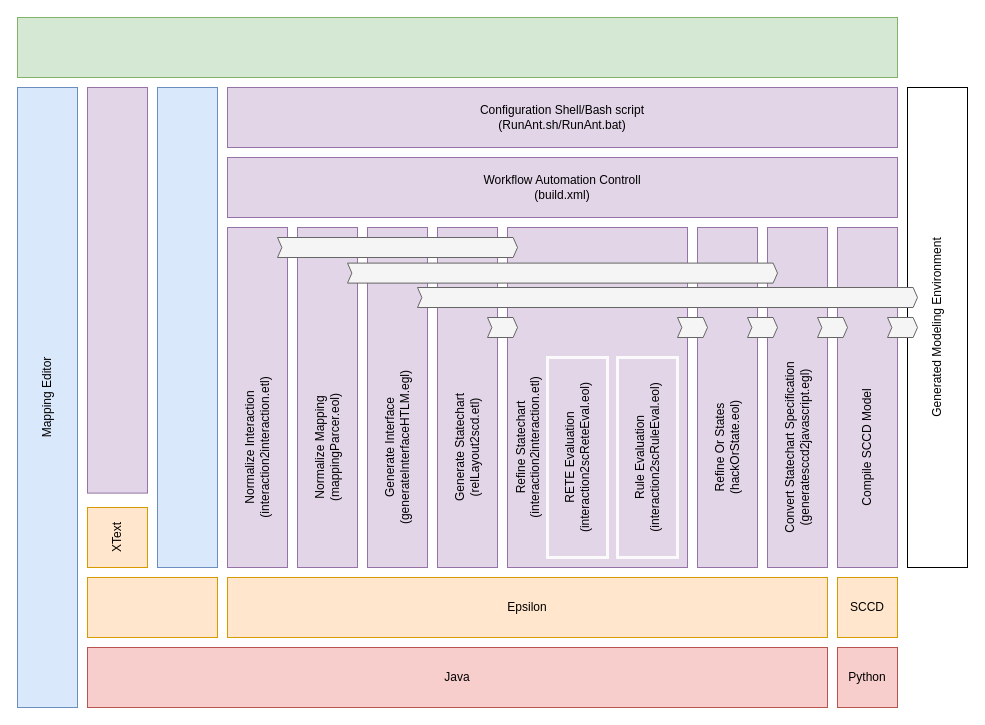
Image size: 985x725. Some labels were removed from this diagram. Here are the shapes that lost their labels. From the top down, the centre of each, then its label:
the point at 457,47: User
the point at 117,289: Interaction Editor (ca.udem.iro.geodes.interaction.interaction.textualsyntax)
the point at 187,327: Layout Editor (ca.udem.iro.geodes.interaction.layoutRel)
the point at 152,607: Eclipse
